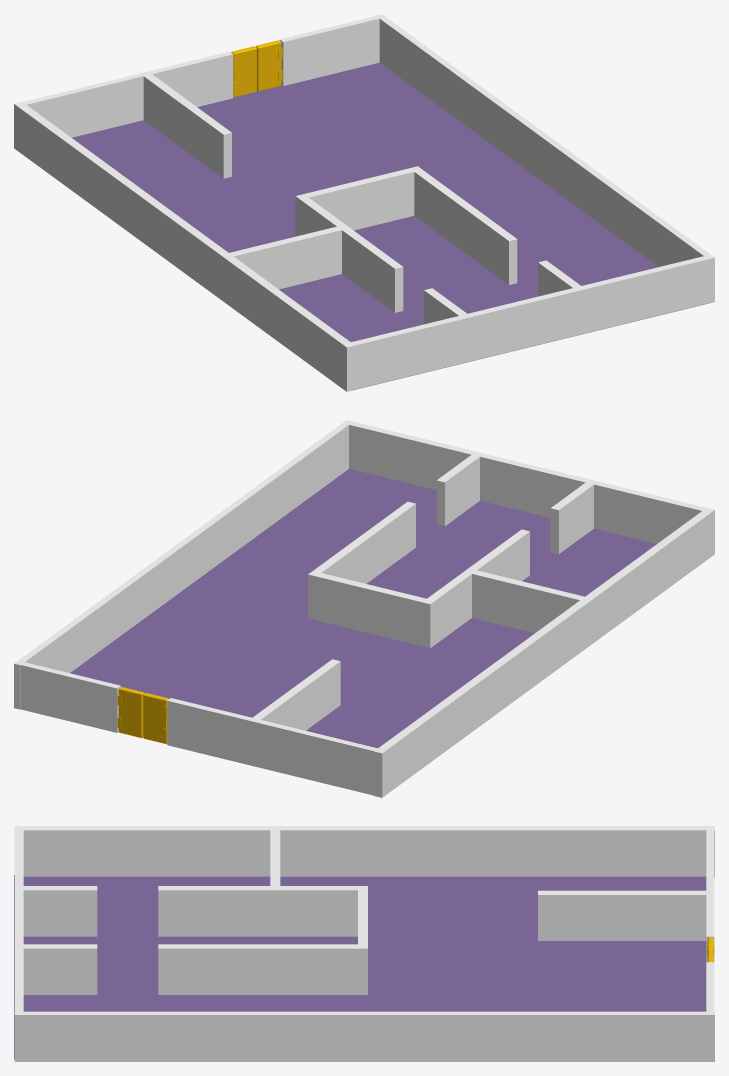
The model's file is maps_86.fbx.
The picture shows the model from 3 angles, top to bottom: view 1: azimuth 30°, elevation 25°; view 2: azimuth 150°, elevation 25°; view 3: azimuth 270°, elevation 25°; orthographic projection. The views are drawn at different scales.
Parts seen in each view (by area): view 1: wall_01_08_geo, wall_01_07_geo, wall_01_05_geo, wall_01_06_geo, wall_01_09_geo, wall_01_07_geo4, wall_01_09_geo1, wall_01_07_geo2, wall_01_07_geo1, wall_01_07_geo7, wall_01_07_geo3, polySurface161 (+3 smaller); view 2: wall_01_08_geo, wall_01_07_geo, wall_01_06_geo, wall_01_05_geo, wall_01_09_geo, wall_01_07_geo1, wall_01_09_geo1, wall_01_07_geo7, wall_01_07_geo4, wall_01_07_geo3, wall_01_07_geo2, wall_01_07_geo5 (+3 smaller); view 3: wall_01_08_geo, wall_01_06_geo, wall_01_07_geo, wall_01_07_geo3, wall_01_07_geo4, wall_01_07_geo2, wall_01_07_geo5, wall_01_07_geo6, wall_01_05_geo, wall_01_07_geo1, wall_01_09_geo, wall_01_07_geo7 (+1 smaller).
Part boxes in pixels (box(x1,y1,x2,y2)): wall_01_08_geo: box(72, 62, 710, 390); wall_01_07_geo: box(14, 102, 354, 391); wall_01_05_geo: box(351, 256, 708, 389); wall_01_06_geo: box(376, 14, 714, 303); wall_01_09_geo: box(23, 51, 233, 137); wall_01_07_geo4: box(414, 170, 517, 284); wall_01_09_geo1: box(279, 16, 379, 85); wall_01_07_geo2: box(143, 74, 231, 178); wall_01_07_geo1: box(295, 166, 422, 236); wall_01_07_geo7: box(229, 226, 341, 289); wall_01_07_geo3: box(300, 197, 403, 312); polySurface161: box(255, 40, 282, 91); wall_01_08_geo: box(70, 469, 656, 748); wall_01_07_geo: box(373, 508, 714, 797); wall_01_06_geo: box(14, 420, 352, 709); wall_01_05_geo: box(349, 421, 706, 543); wall_01_09_geo: box(167, 698, 377, 795); wall_01_07_geo1: box(308, 571, 435, 648); wall_01_09_geo1: box(21, 662, 120, 732); wall_01_07_geo7: box(472, 570, 584, 632); wall_01_07_geo4: box(313, 501, 415, 583); wall_01_07_geo3: box(427, 529, 529, 644); wall_01_07_geo2: box(252, 659, 340, 730); wall_01_07_geo5: box(436, 455, 479, 526); wall_01_08_geo: box(14, 875, 706, 1059); wall_01_06_geo: box(14, 1011, 714, 1061); wall_01_07_geo: box(14, 826, 714, 877); wall_01_07_geo3: box(158, 886, 357, 936); wall_01_07_geo4: box(158, 944, 357, 994); wall_01_07_geo2: box(538, 890, 706, 940); wall_01_07_geo5: box(22, 944, 97, 994); wall_01_07_geo6: box(22, 886, 97, 936); wall_01_05_geo: box(14, 830, 23, 1011); wall_01_07_geo1: box(358, 886, 367, 994); wall_01_09_geo: box(706, 830, 714, 962); wall_01_07_geo7: box(270, 830, 280, 885).
Bounding box in the file's own units: 76.85 × 8.89 × 120.
Materials: 2 (2 with a texture image).
